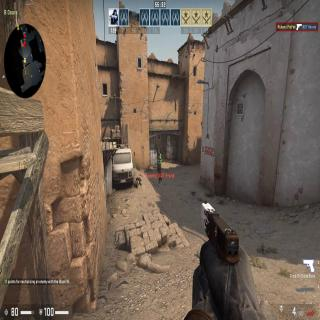CT-Body: (157, 162, 161, 181), (158, 153, 161, 163), (157, 147, 159, 154)
CT-Head: (158, 162, 160, 166), (159, 153, 160, 156), (158, 147, 158, 149)
